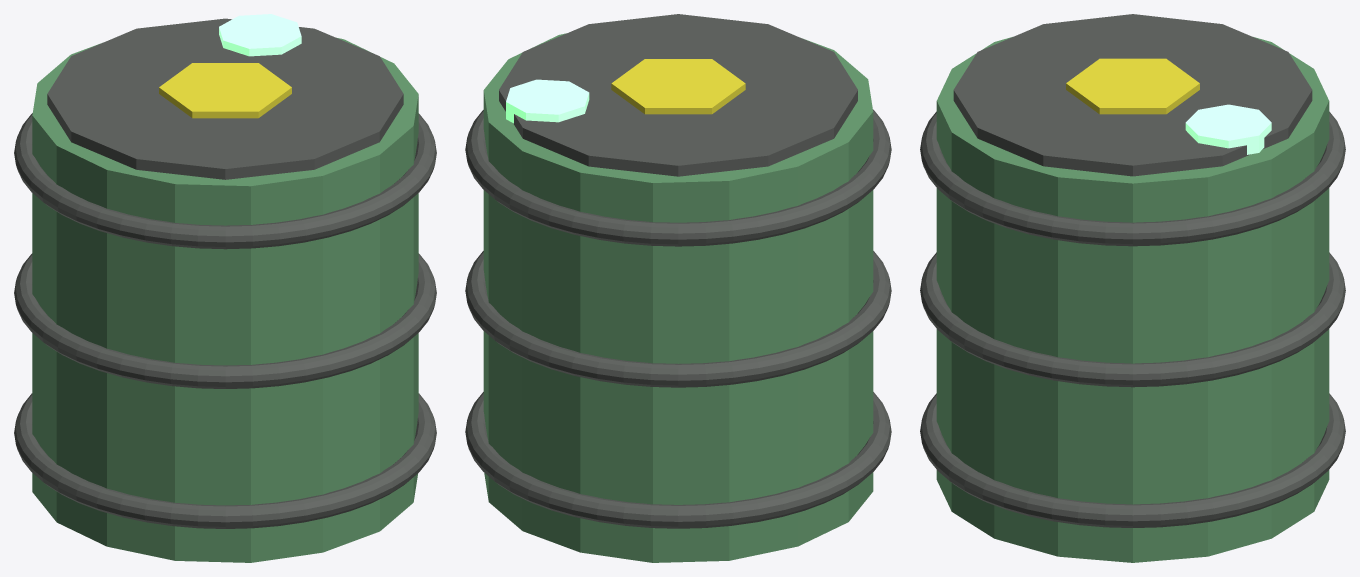
Rendered from breakable-block-toxic.glb.
3 views of the same model, side by side, from view 1: azimuth 30°, elevation 25°; view 2: azimuth 150°, elevation 25°; view 3: azimuth 270°, elevation 25° (orthographic).
Visible parts, largest first — view 1: Cylinder, Cylinder.001, Torus.001, Torus, Torus.002, Cylinder.002, Cylinder.003; view 2: Cylinder, Cylinder.001, Torus, Torus.001, Torus.002, Cylinder.002, Cylinder.003; view 3: Cylinder, Cylinder.001, Torus.002, Torus.001, Torus, Cylinder.002, Cylinder.003.
Boxes of the visible parts, x1,y1,x2,y2 form: Cylinder: (32, 37, 418, 562); Cylinder.001: (47, 18, 403, 179); Torus.001: (14, 253, 436, 388); Torus: (14, 393, 436, 528); Torus.002: (14, 113, 436, 249); Cylinder.002: (159, 63, 291, 118); Cylinder.003: (219, 14, 301, 56); Cylinder: (483, 33, 873, 562); Cylinder.001: (499, 14, 857, 176); Torus: (465, 392, 891, 528); Torus.001: (465, 251, 891, 387); Torus.002: (465, 109, 891, 246); Cylinder.002: (611, 59, 745, 114); Cylinder.003: (506, 79, 589, 123); Cylinder: (936, 37, 1329, 562); Cylinder.001: (953, 14, 1312, 176); Torus.002: (920, 111, 1345, 246); Torus.001: (920, 252, 1345, 387); Torus: (920, 393, 1345, 527); Cylinder.002: (1066, 58, 1199, 114); Cylinder.003: (1185, 104, 1271, 154).
Size of the model in its own units: 1.78 by 1.84 by 1.78.
